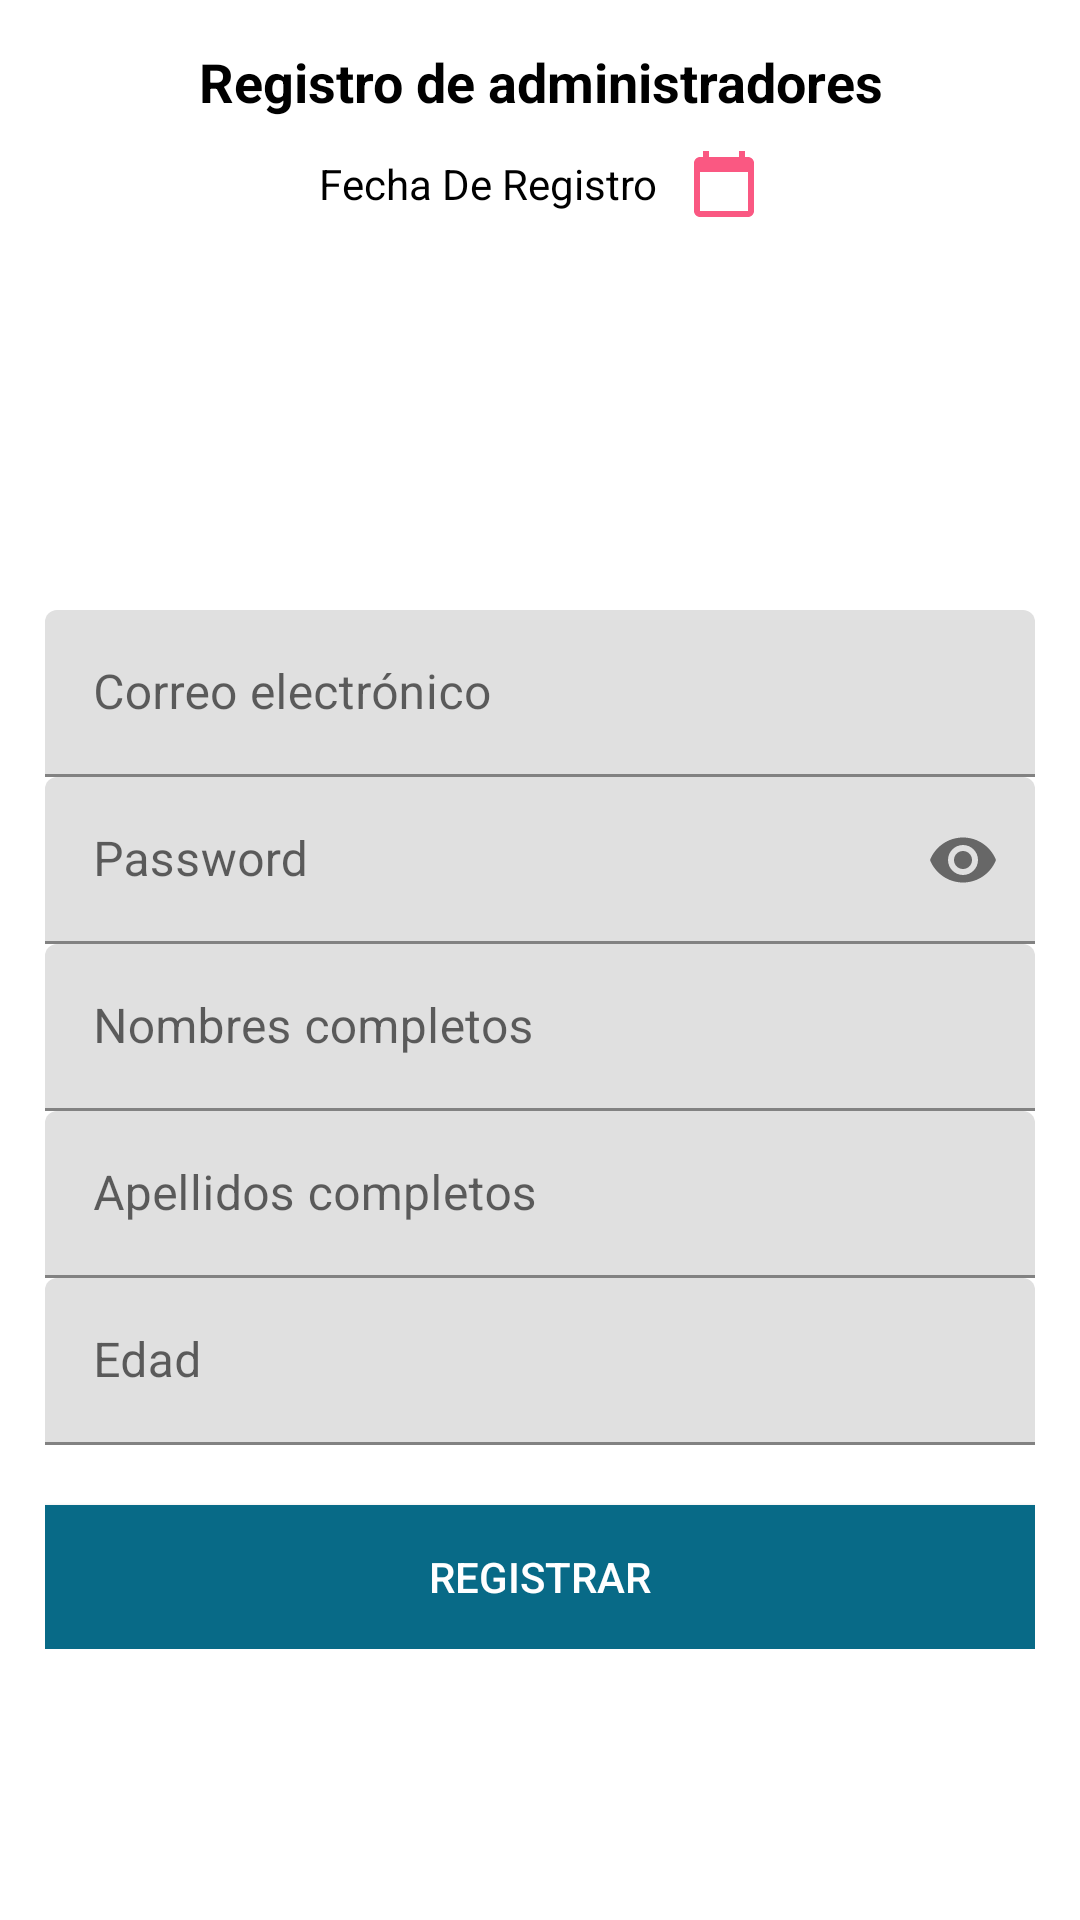

Icons on this 1080px×1920px Android screen, each with the point to tap as [x,y]:
calendario: [724,184]
